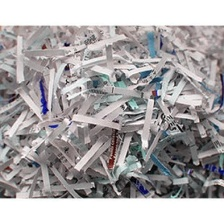book: (0, 22, 224, 203)
